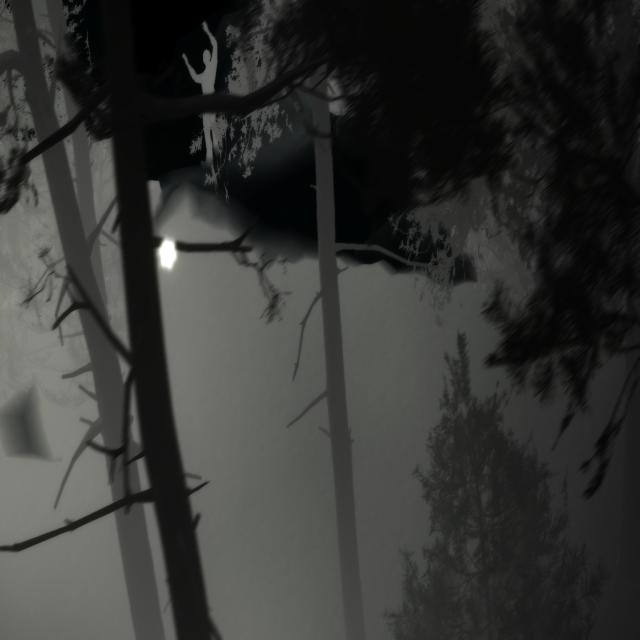Human: (180, 19, 224, 167)
